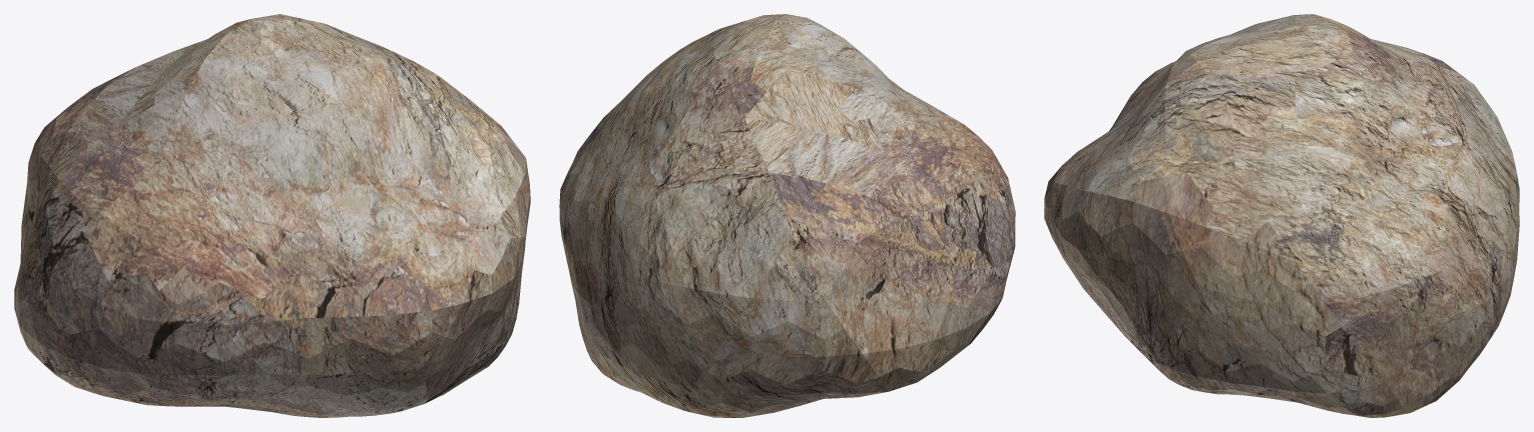
The model's file is object_stone_2.fbx.
The picture shows the model from 3 angles, left to right: view 1: azimuth 30°, elevation 25°; view 2: azimuth 150°, elevation 25°; view 3: azimuth 270°, elevation 25°; orthographic projection. The views are drawn at different scales.
Visible parts, largest first — view 1: stone_2; view 2: stone_2; view 3: stone_2.
Boxes of the visible parts, x1,y1,x2,y2 form: stone_2: [14, 14, 530, 417]; stone_2: [559, 14, 1015, 417]; stone_2: [1044, 14, 1519, 417].
Size of the model in its own units: 61.65 by 46.65 by 59.64.
